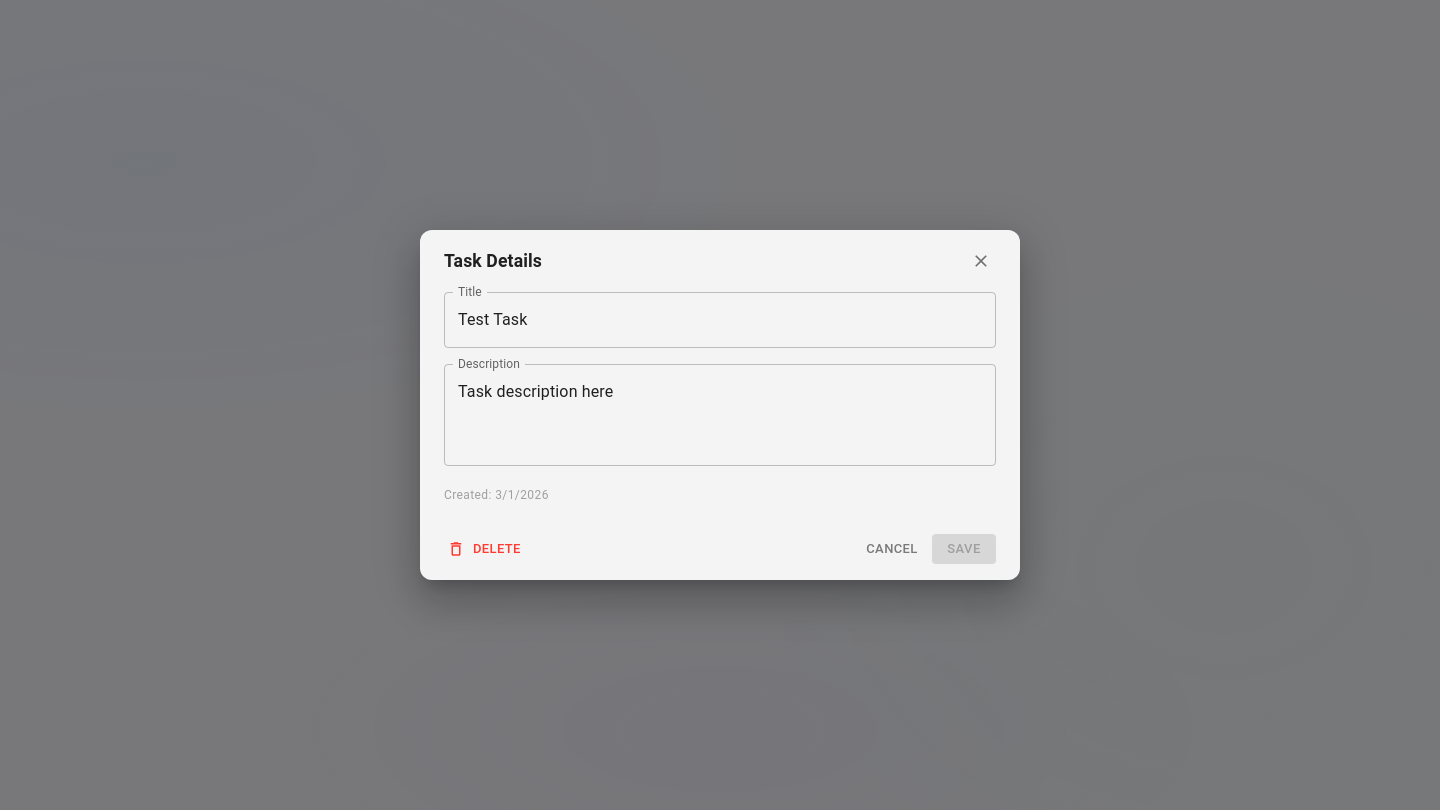
TaskDetailModal › shows delete confirmation dialog when Delete clicked
Click the button "Delete" at coordinates (485, 549), box [444, 534, 526, 564]
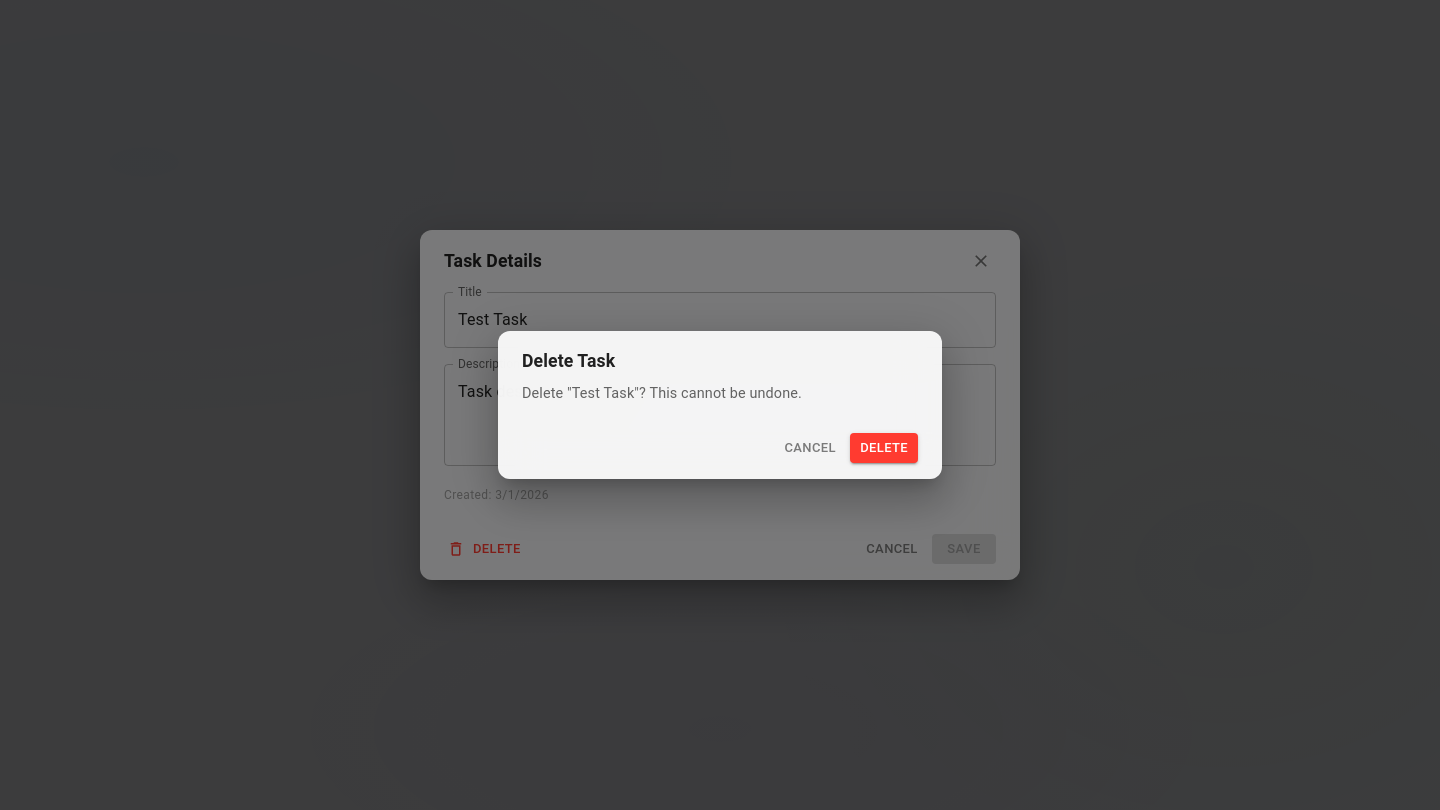
Now the heading "Delete Task" is shown, box [522, 351, 615, 371]
Now the text "Delete \"Test Task\"? This cannot be undone." is shown, box [522, 385, 802, 402]
